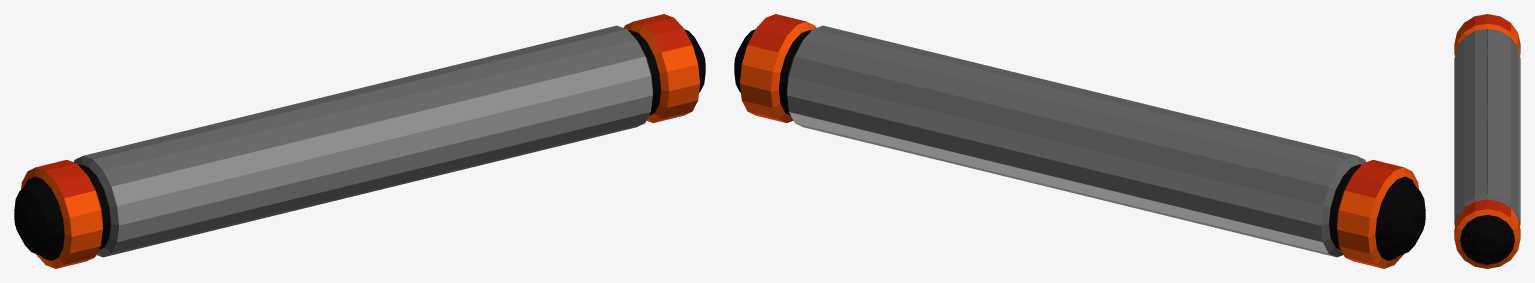
Rendered from paddle_big.glb.
The picture shows the model from 3 angles, left to right: view 1: azimuth 30°, elevation 25°; view 2: azimuth 150°, elevation 25°; view 3: azimuth 270°, elevation 25°; orthographic projection. The views are drawn at different scales.
Visible parts, largest first — view 1: 0paddle, L_black, R_black; view 2: 0paddle, L_black, R_black; view 3: 0paddle, R_black.
Boxes of the visible parts, box(x1,y1,x2,y2) form: 0paddle: box(21, 14, 699, 268); L_black: box(14, 177, 64, 259); R_black: box(684, 29, 705, 92); 0paddle: box(740, 14, 1418, 268); L_black: box(1375, 177, 1425, 259); R_black: box(734, 29, 755, 92); 0paddle: box(1454, 14, 1520, 268); R_black: box(1460, 215, 1514, 263).
Bounding box in the file's own units: 0.45 × 0.06 × 0.06.
Materials: 1 (1 with a texture image).
